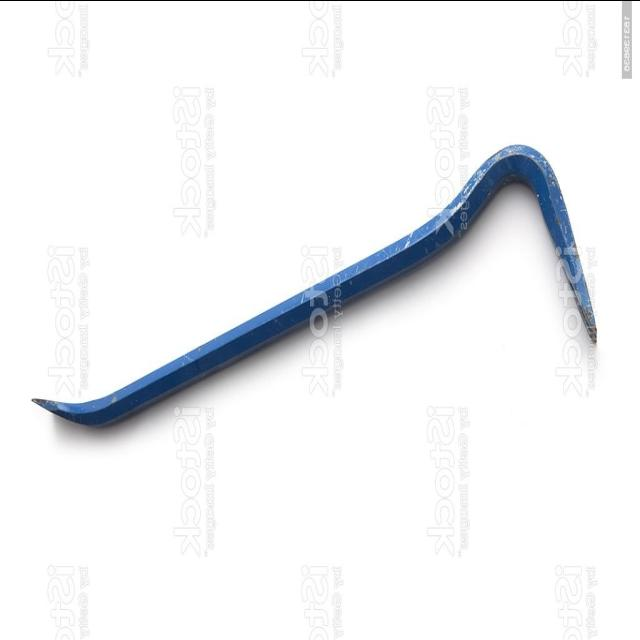Linggis: (31, 139, 598, 425)
